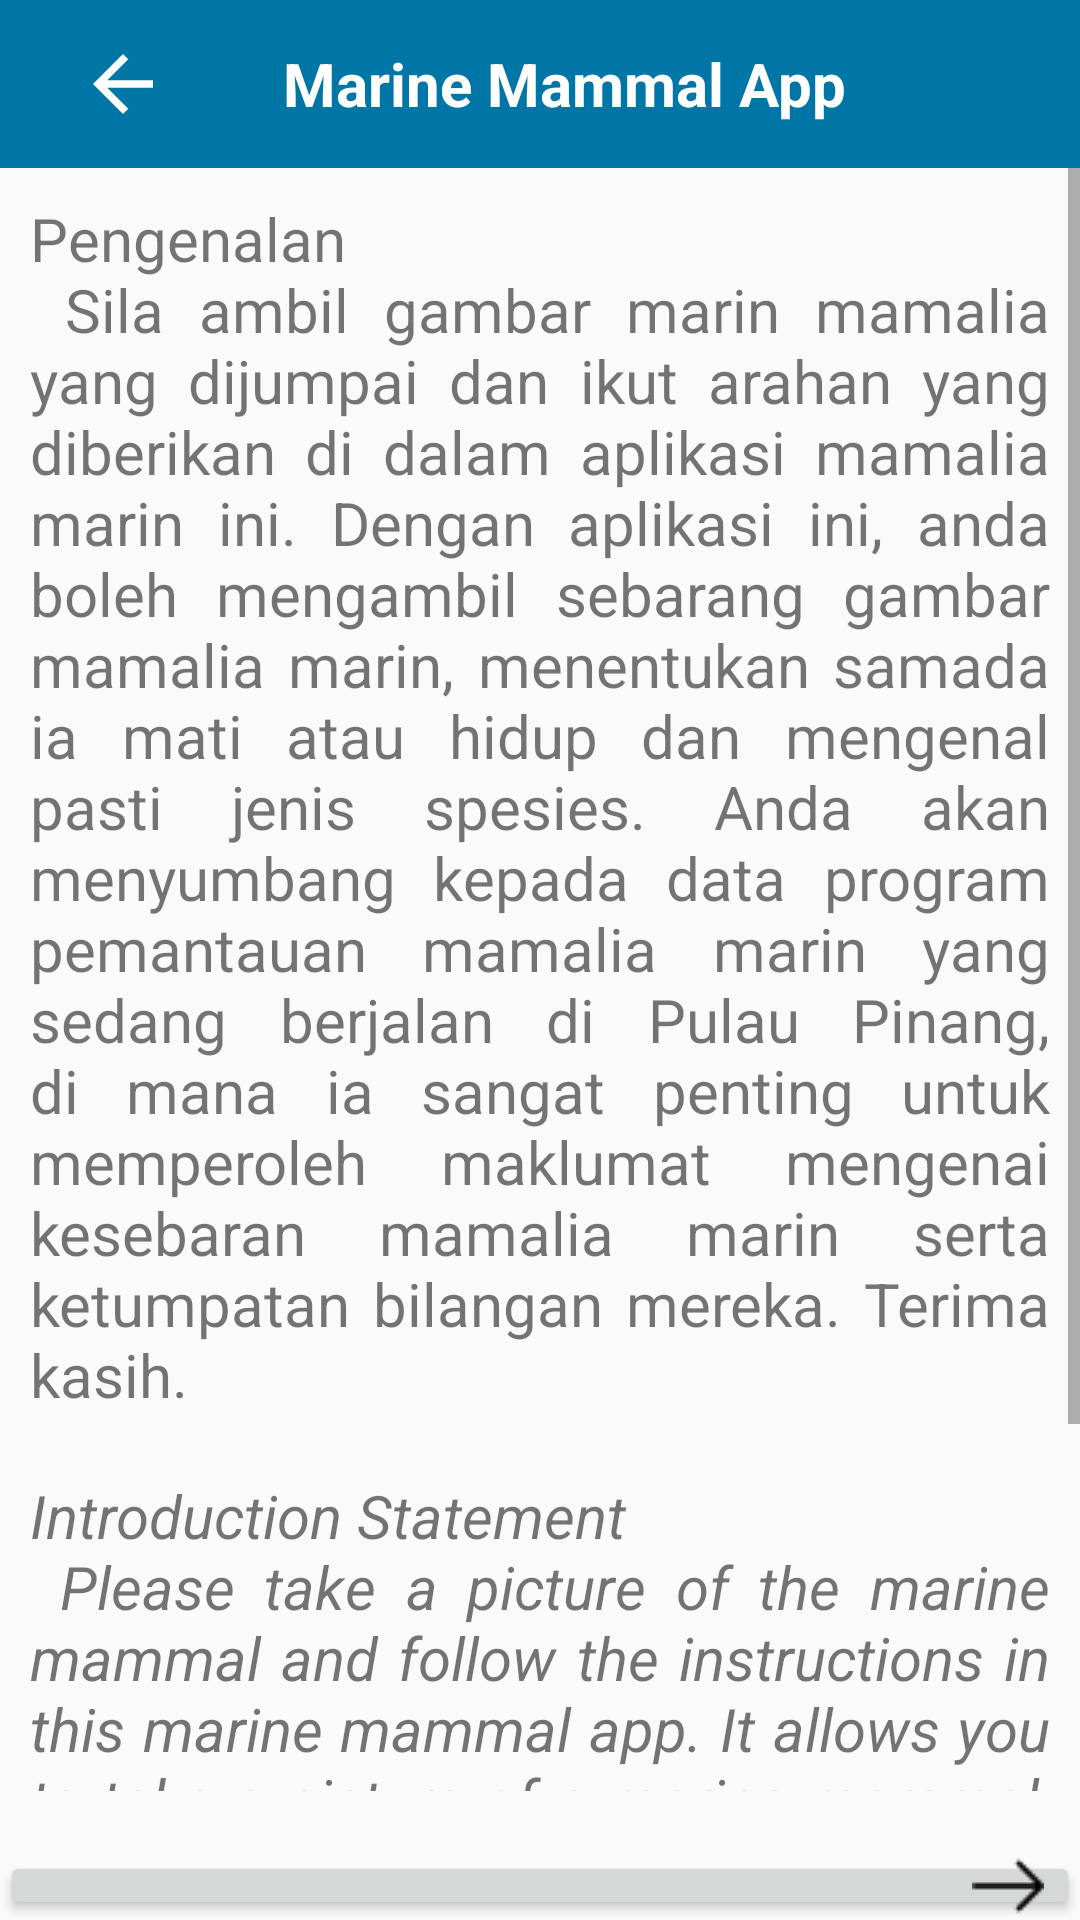

Icon click points for this 1080 × 1920 phone screenshot, format (x=x, y=y):
Back button: (x=123, y=84)
